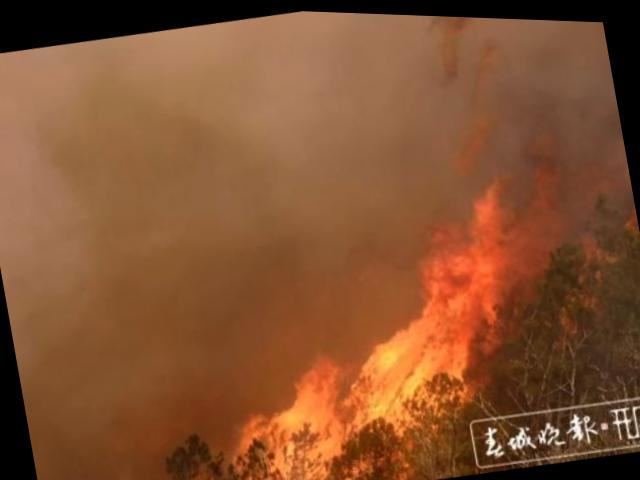fire: (197, 192, 565, 479)
